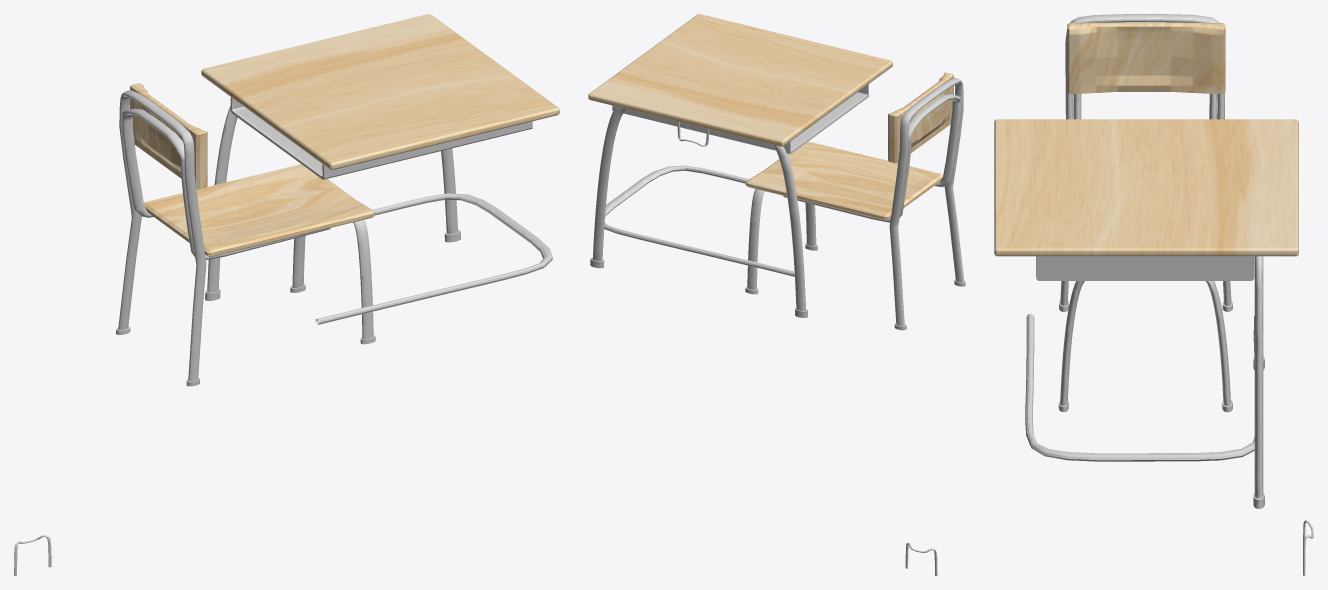
The model's file is single_desk.glb.
3 renders of one model, left to right at view 1: azimuth 30°, elevation 25°; view 2: azimuth 150°, elevation 25°; view 3: azimuth 270°, elevation 25°, orthographic. The views are drawn at different scales.
Visible parts, largest first — view 1: TAPA4_StingrayPBS5_0.005, ASIENTO1_StingrayPBS5_0.005, PATAS_T_StingrayPBS6_0.005, UNION_StingrayPBS6_0.005, CAJON_StingrayPBS6_0.005, RESPALDO1_StingrayPBS5_0.005, EXTRA_StingrayPBS6_0.005, PATAS_D1_StingrayPBS6_0.005, PATAS_D_StingrayPBS6_0.005; view 2: TAPA4_StingrayPBS5_0.005, ASIENTO1_StingrayPBS5_0.005, PATAS_T_StingrayPBS6_0.005, PATAS_D1_StingrayPBS6_0.005, UNION_StingrayPBS6_0.005, RESPALDO1_StingrayPBS5_0.005, CAJON_StingrayPBS6_0.005, EXTRA_StingrayPBS6_0.005, PATAS_D_StingrayPBS6_0.005; view 3: TAPA4_StingrayPBS5_0.005, RESPALDO1_StingrayPBS5_0.005, CAJON_StingrayPBS6_0.005, UNION_StingrayPBS6_0.005, PATAS_D1_StingrayPBS6_0.005, PATAS_T_StingrayPBS6_0.005, PATAS_D_StingrayPBS6_0.005, EXTRA_StingrayPBS6_0.005.
Part boxes in pixels (x1,y1,x2,y2): TAPA4_StingrayPBS5_0.005: (201,14,559,169); ASIENTO1_StingrayPBS5_0.005: (144,164,375,256); PATAS_T_StingrayPBS6_0.005: (116,90,206,386); UNION_StingrayPBS6_0.005: (315,193,552,324); CAJON_StingrayPBS6_0.005: (230,97,532,179); RESPALDO1_StingrayPBS5_0.005: (130,83,207,189); EXTRA_StingrayPBS6_0.005: (122,108,330,259); PATAS_D1_StingrayPBS6_0.005: (205,106,461,300); PATAS_D_StingrayPBS6_0.005: (290,220,375,344); TAPA4_StingrayPBS5_0.005: (588,14,892,146); ASIENTO1_StingrayPBS5_0.005: (745,141,943,220); PATAS_T_StingrayPBS6_0.005: (889,77,965,330); PATAS_D1_StingrayPBS6_0.005: (590,106,807,317); UNION_StingrayPBS6_0.005: (604,165,794,276); RESPALDO1_StingrayPBS5_0.005: (888,72,953,163); CAJON_StingrayPBS6_0.005: (612,84,868,154); EXTRA_StingrayPBS6_0.005: (783,94,961,222); PATAS_D_StingrayPBS6_0.005: (745,189,817,294); TAPA4_StingrayPBS5_0.005: (994,119,1298,256); RESPALDO1_StingrayPBS5_0.005: (1067,22,1225,93); CAJON_StingrayPBS6_0.005: (1036,256,1254,280); UNION_StingrayPBS6_0.005: (1025,314,1254,461); PATAS_D1_StingrayPBS6_0.005: (1253,256,1264,508); PATAS_T_StingrayPBS6_0.005: (1059,14,1232,311); PATAS_D_StingrayPBS6_0.005: (1058,281,1232,412); EXTRA_StingrayPBS6_0.005: (1073,94,1217,119).
Bounding box in the file's own units: 2.7 × 2.94 × 1.46.
2 materials, 2 textured.
